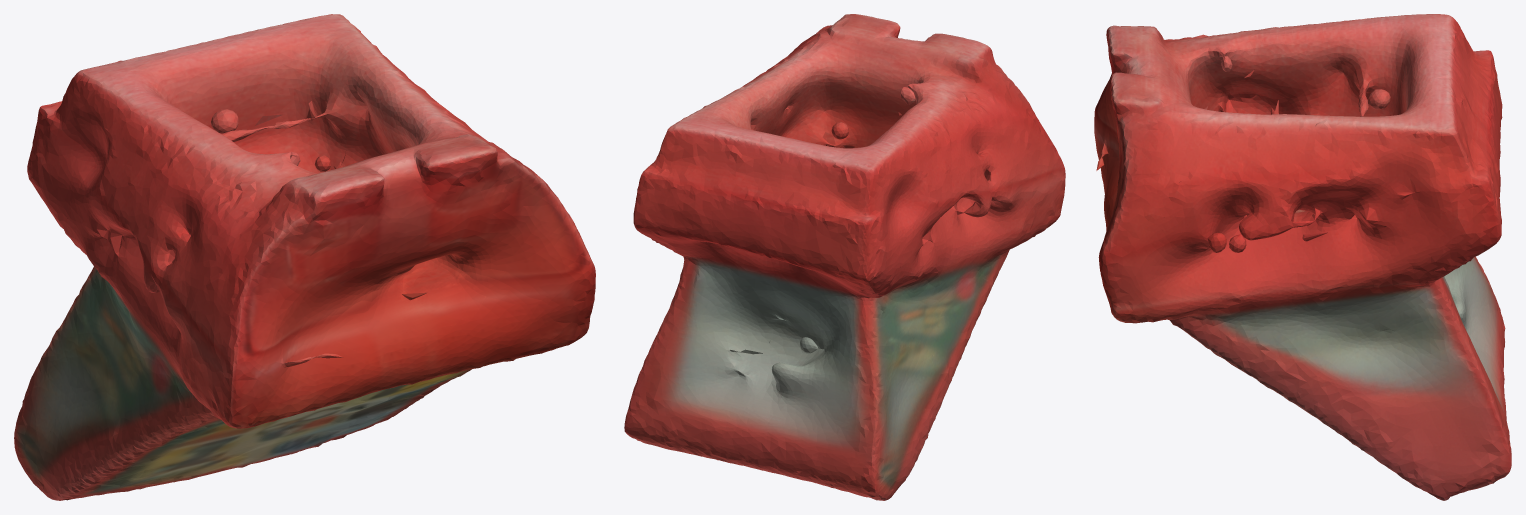
The model's file is IMG_SEG_27.glb.
The picture shows the model from 3 angles, left to right: view 1: azimuth 30°, elevation 25°; view 2: azimuth 150°, elevation 25°; view 3: azimuth 270°, elevation 25°; orthographic projection. The views are drawn at different scales.
Size of the model in its own units: 0.8237 by 0.9337 by 0.9263.
1 material, 1 textured.
